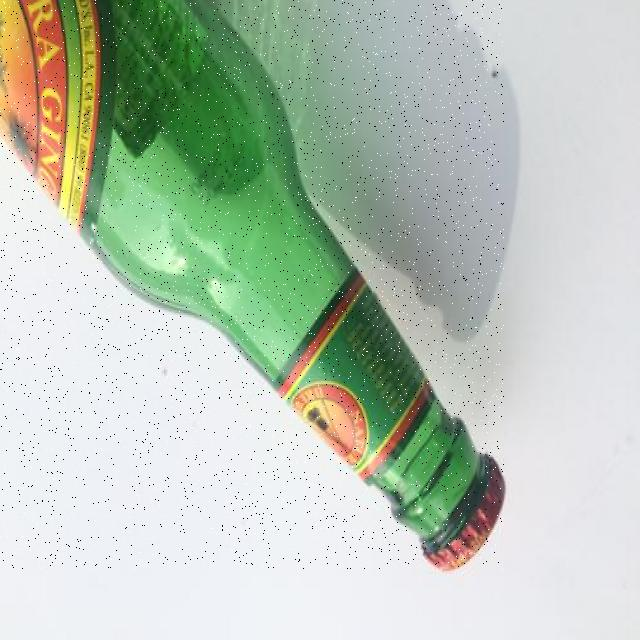glass: (0, 0, 504, 569)
